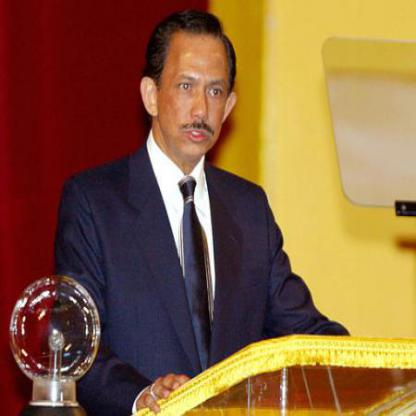face: (159, 18, 232, 163)
